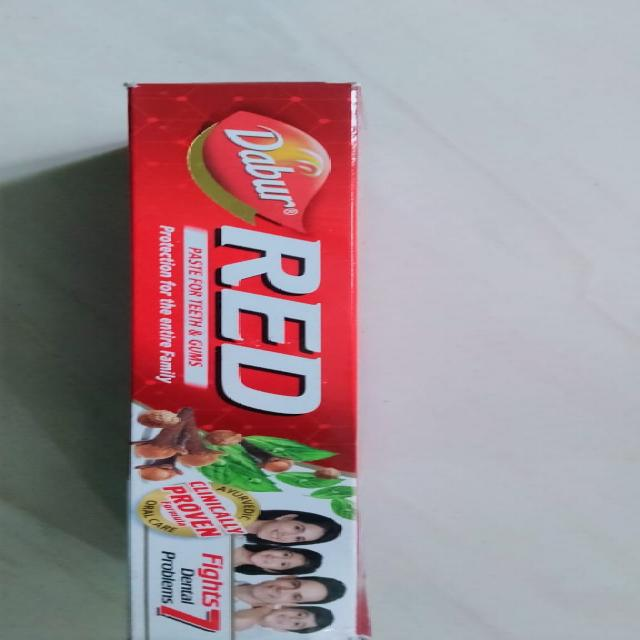tooth paste: (118, 83, 366, 640)
